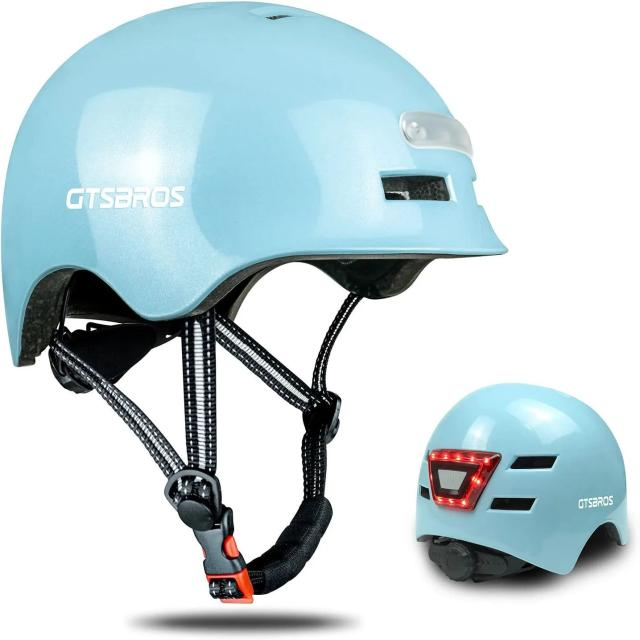Helmet: (0, 0, 510, 367)
